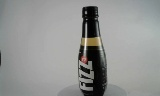appyfizz: (71, 5, 101, 95)
